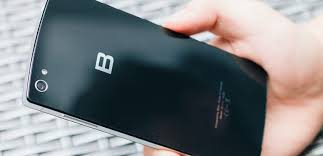bphone: (19, 1, 271, 156)
